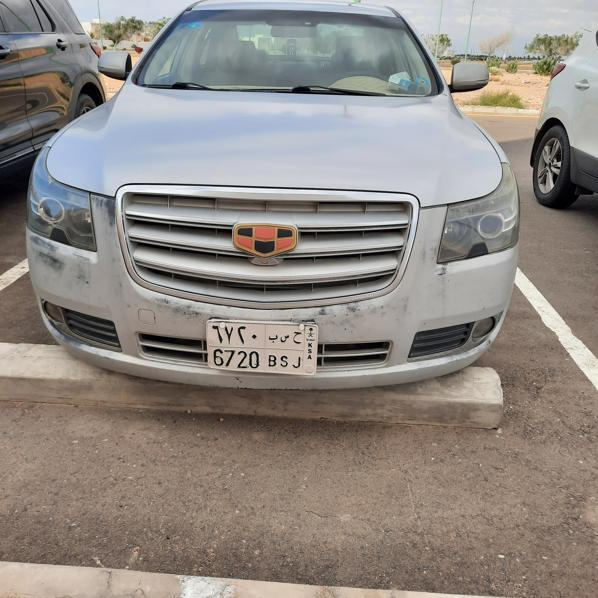numberplate: (207, 320, 317, 374)
